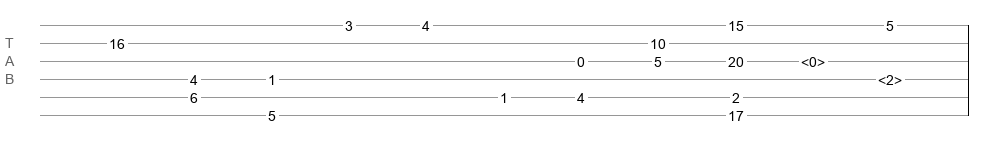0: (577, 54, 585, 64)
1: (268, 72, 276, 82), (500, 90, 508, 100)
10: (650, 36, 666, 46)
15: (728, 18, 744, 28)
16: (109, 36, 125, 46)
17: (728, 108, 744, 118)
2: (732, 90, 740, 100)
20: (728, 54, 744, 64)
3: (345, 18, 353, 28)
4: (190, 72, 198, 82), (422, 18, 430, 28), (577, 90, 585, 100)
5: (268, 108, 276, 118), (654, 54, 662, 64), (886, 18, 894, 28)
6: (190, 90, 198, 100)
harmonic: (801, 54, 825, 64), (878, 72, 902, 82)
